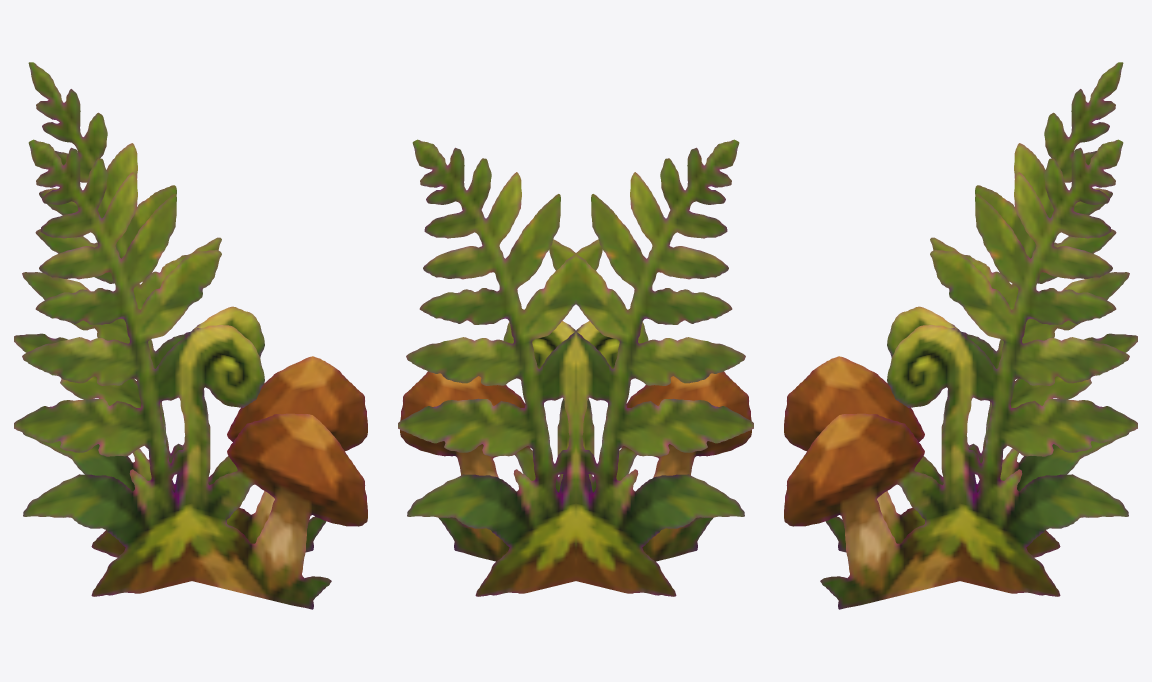
File: h_racines_feuille.glb
The picture shows the model from 3 angles, left to right: view 1: azimuth 30°, elevation 25°; view 2: azimuth 150°, elevation 25°; view 3: azimuth 270°, elevation 25°; orthographic projection.
Visible parts, largest first — view 1: h_racines_feuille; view 2: h_racines_feuille; view 3: h_racines_feuille.
Part boxes in pixels (<box>): h_racines_feuille: <box>14,62,367,609</box>; h_racines_feuille: <box>398,139,753,596</box>; h_racines_feuille: <box>784,62,1137,609</box>.
Bounding box in the file's own units: 0.248 × 0.32 × 0.2148.
Materials: 1 (1 with a texture image).
